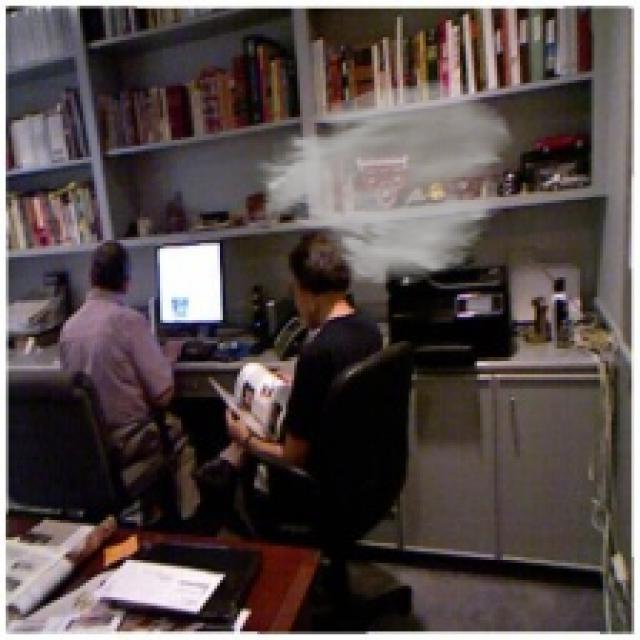smoke: (246, 77, 517, 289)
